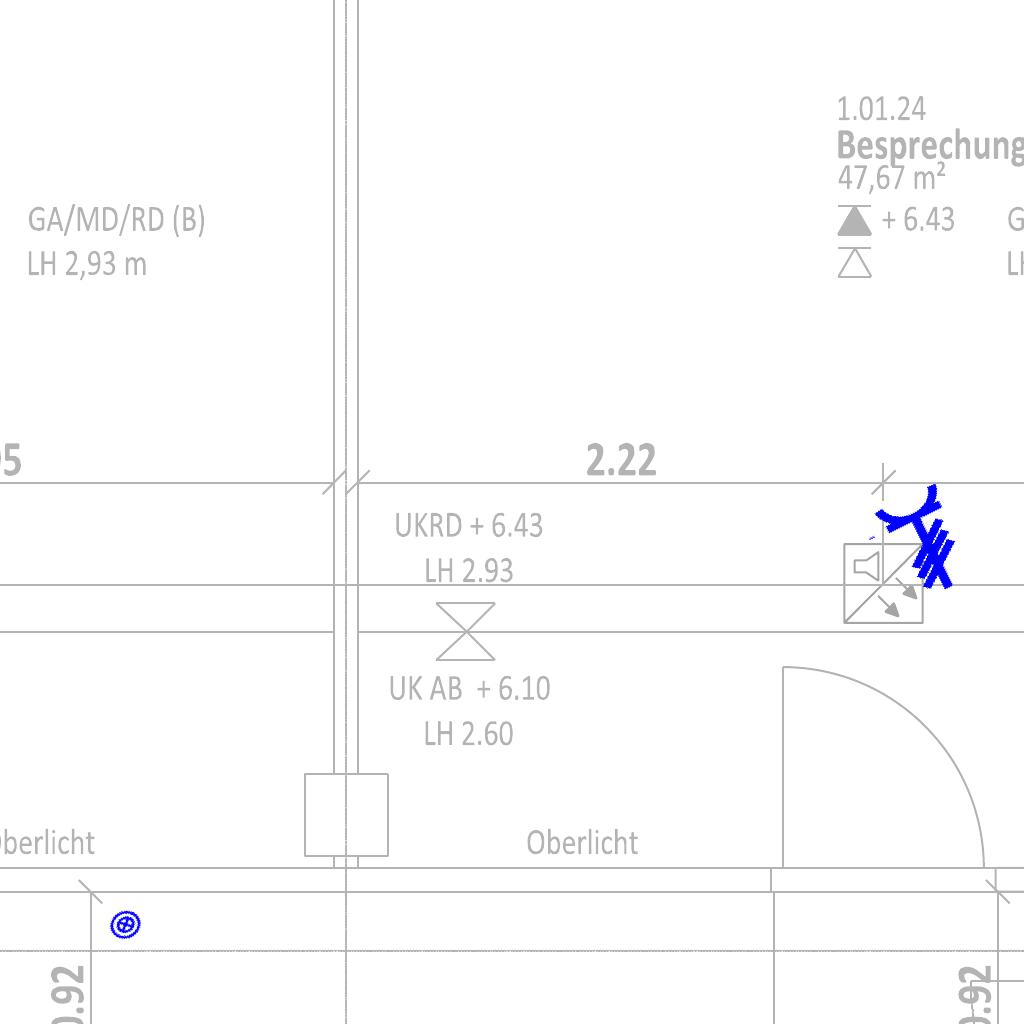CEE_Drehstrom_Steckdose_16_32_A: (855, 479, 983, 613)
Taster_beleuchtet: (103, 902, 148, 947)
